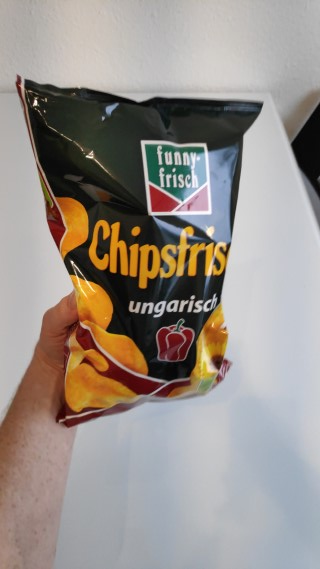chipsfrisch: (14, 74, 265, 428)
